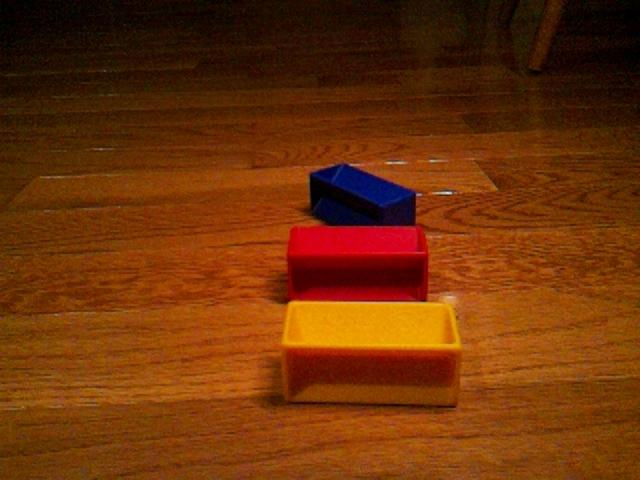blue: (308, 161, 417, 226)
red: (286, 224, 430, 302)
yellow: (280, 299, 463, 408)
